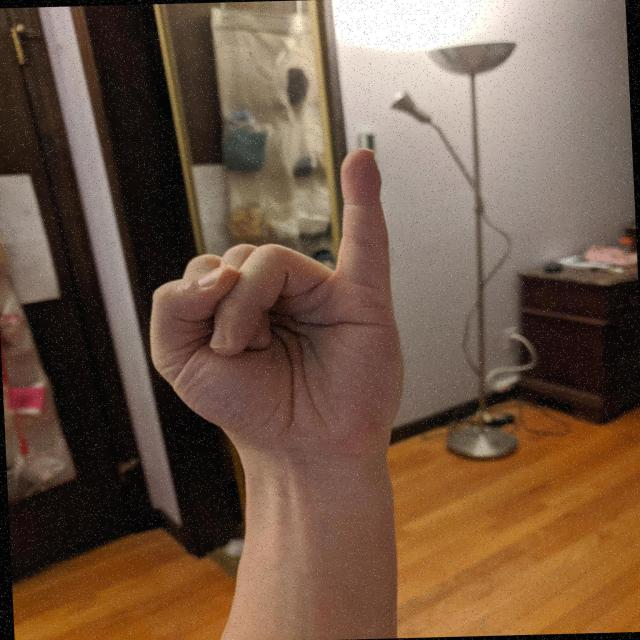I: (132, 139, 414, 474)
